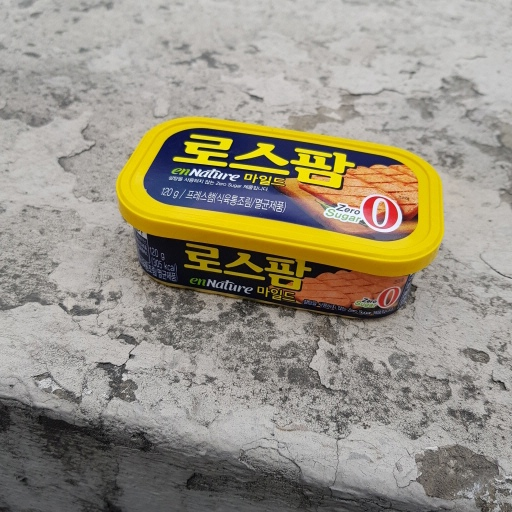Metal_2: (112, 113, 446, 322)
